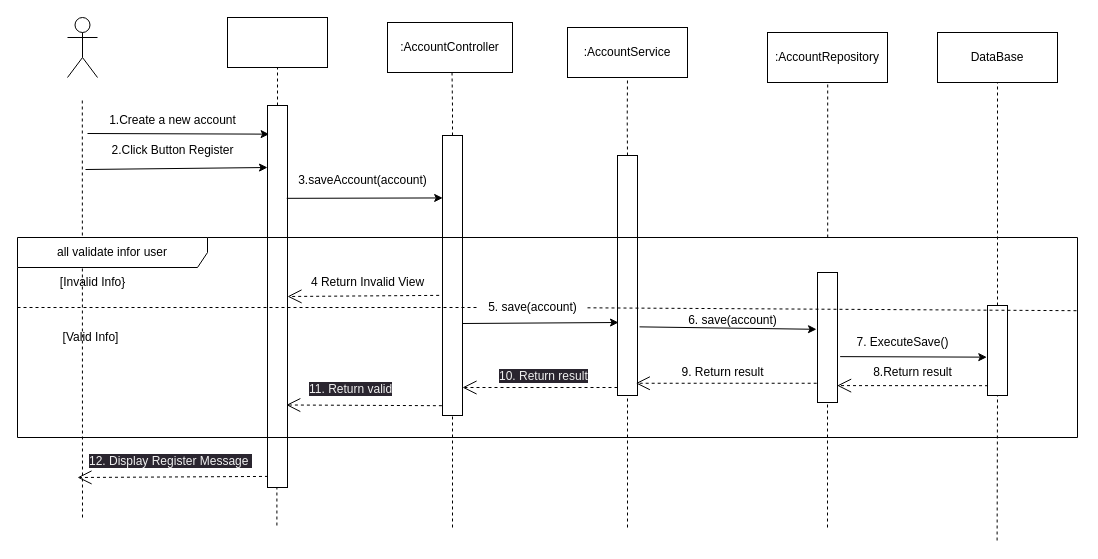
Some shapes in this 1098 by 559 pixel diagram are drawn without their labels. The shapes that lost their labels are listed below. From the top down, each one's centre as x and y in pixels, then its label:
At (82,47): "User".
At (277,42): "View".
